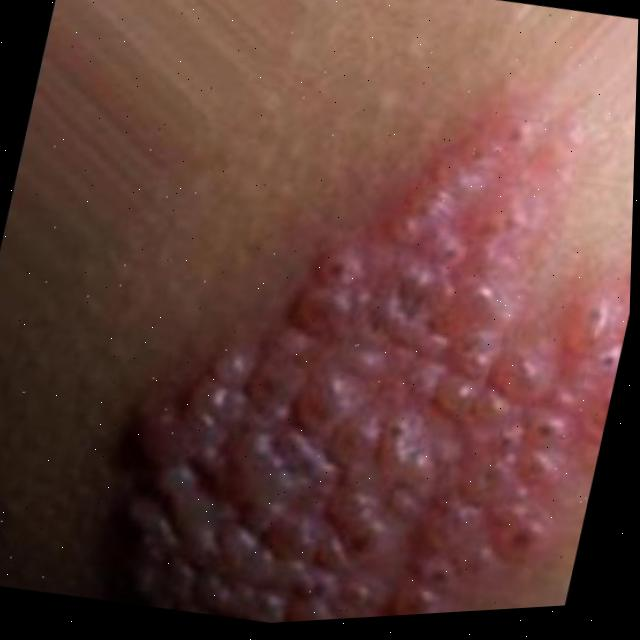Shingles: (98, 71, 637, 633)
